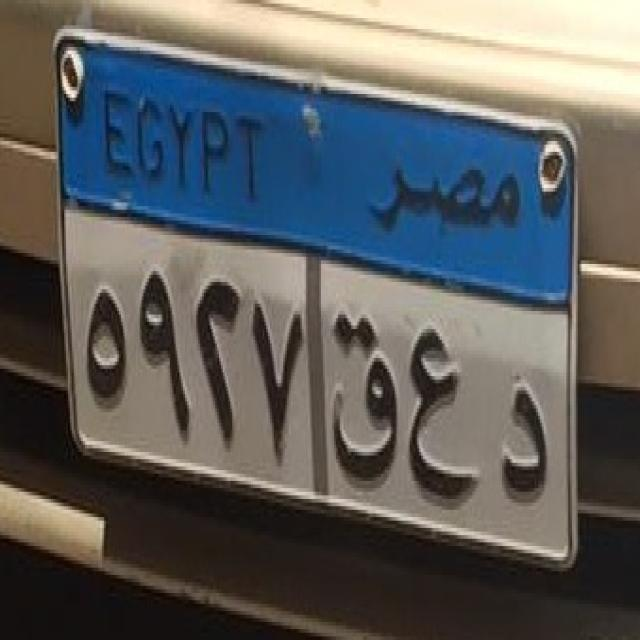2: (192, 266, 246, 452)
5: (76, 281, 136, 414)
7: (247, 294, 306, 458)
9: (130, 262, 196, 444)
Een: (404, 326, 484, 519)
Taa: (322, 301, 406, 490)
daal: (496, 375, 554, 515)
